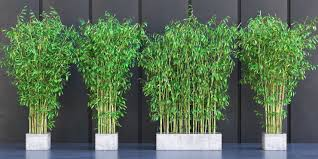bamboo: (142, 10, 246, 129), (239, 19, 318, 135), (6, 13, 72, 136), (80, 15, 146, 132)
